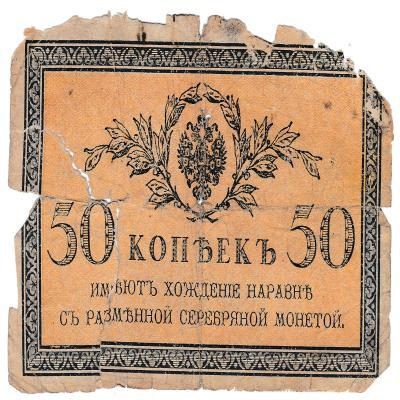numismatics: (9, 13, 393, 394)
